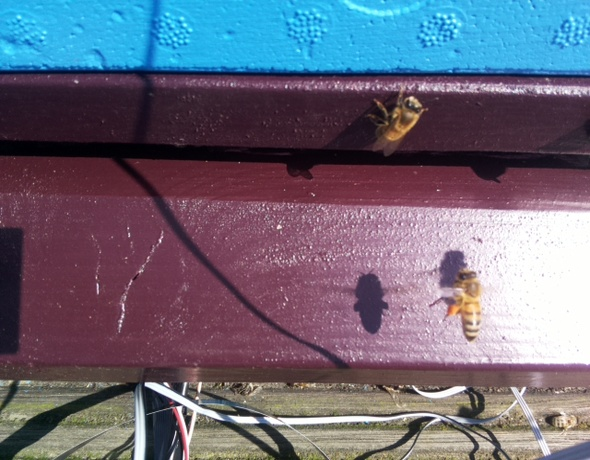no_pollen: (365, 89, 427, 146)
pollen: (441, 266, 485, 344)
